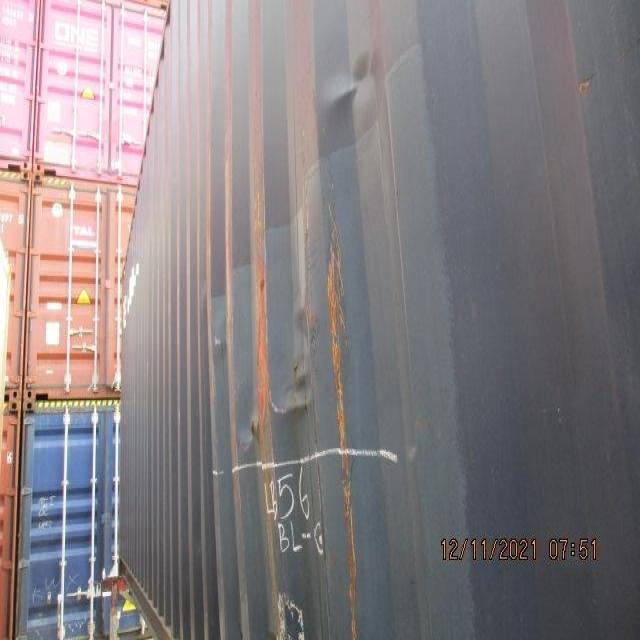dent: (186, 282, 373, 525), (320, 35, 403, 135)
